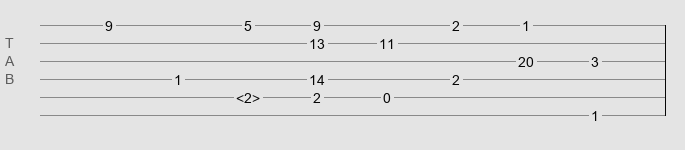0: (383, 90, 391, 100)
1: (174, 72, 182, 82), (522, 18, 530, 28), (591, 108, 599, 118)
11: (379, 36, 395, 46)
13: (309, 36, 325, 46)
14: (309, 72, 325, 82)
2: (313, 90, 321, 100), (452, 72, 460, 82), (452, 18, 460, 28)
20: (518, 54, 534, 64)
3: (591, 54, 599, 64)
5: (244, 18, 252, 28)
9: (105, 18, 113, 28), (313, 18, 321, 28)
harmonic: (236, 90, 260, 100)
